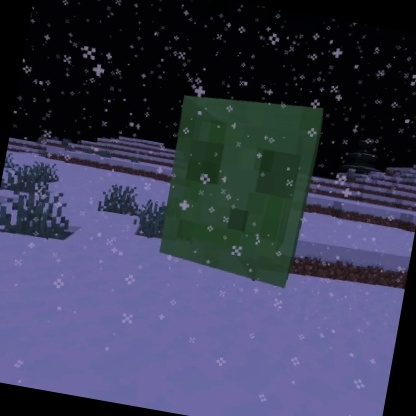slime: (150, 79, 330, 294)
